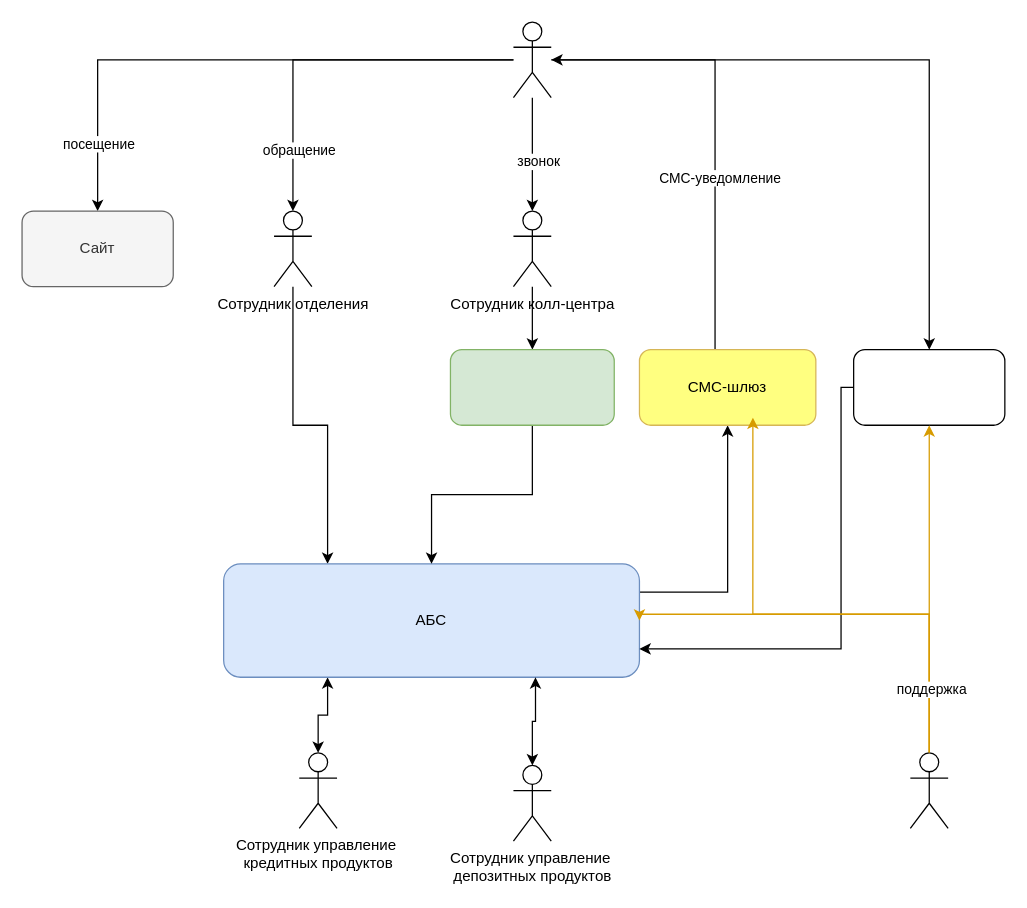
Some shapes in this 1027 by 908 pixel diagram are drawn without their labels. Each missing label, with the box of its shape:
Интернет-банк: (852, 348, 1005, 425)
Клиент: (512, 21, 551, 98)
Система колл-центра: (449, 348, 614, 425)
Сотрудник IT-отдела: (909, 752, 948, 828)
